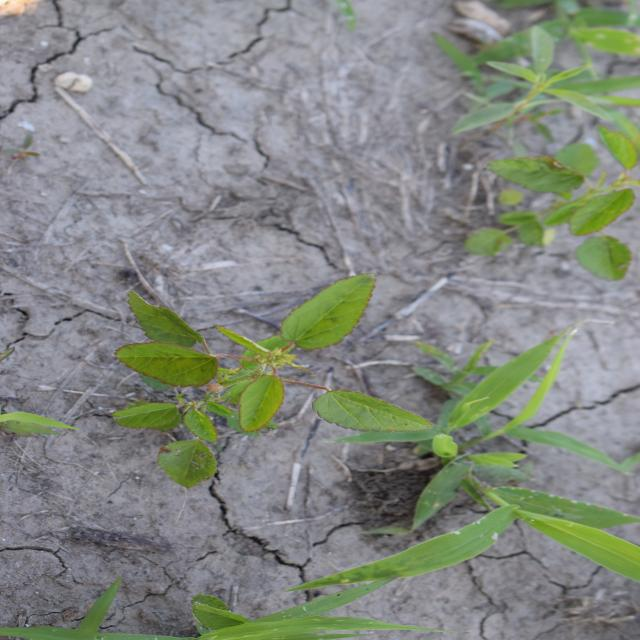PricklySida: (109, 271, 437, 489), (458, 121, 638, 284)
Waterhemp: (448, 28, 632, 130)
